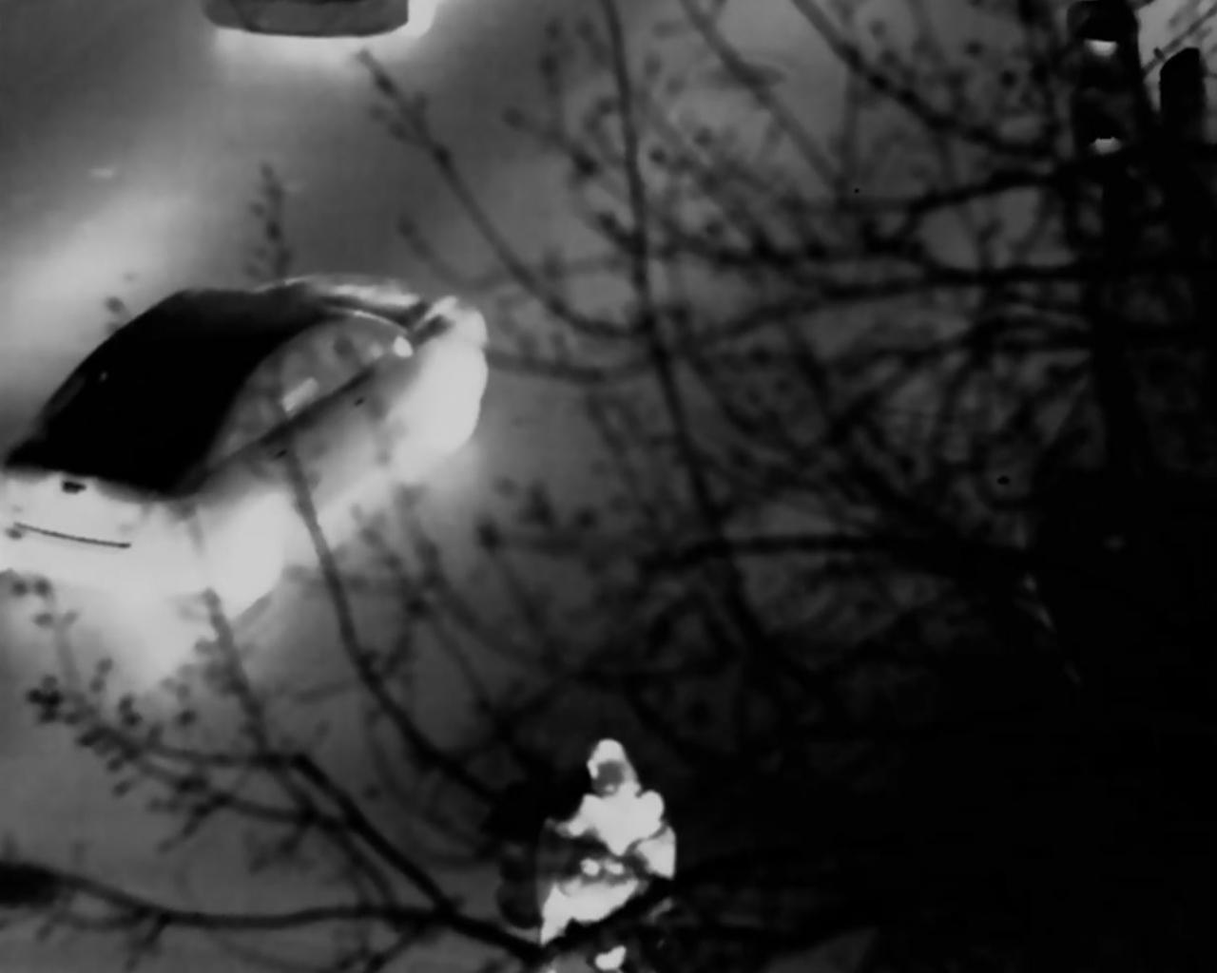person: (554, 724, 670, 914)
